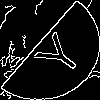Y: (25, 25, 87, 80)
